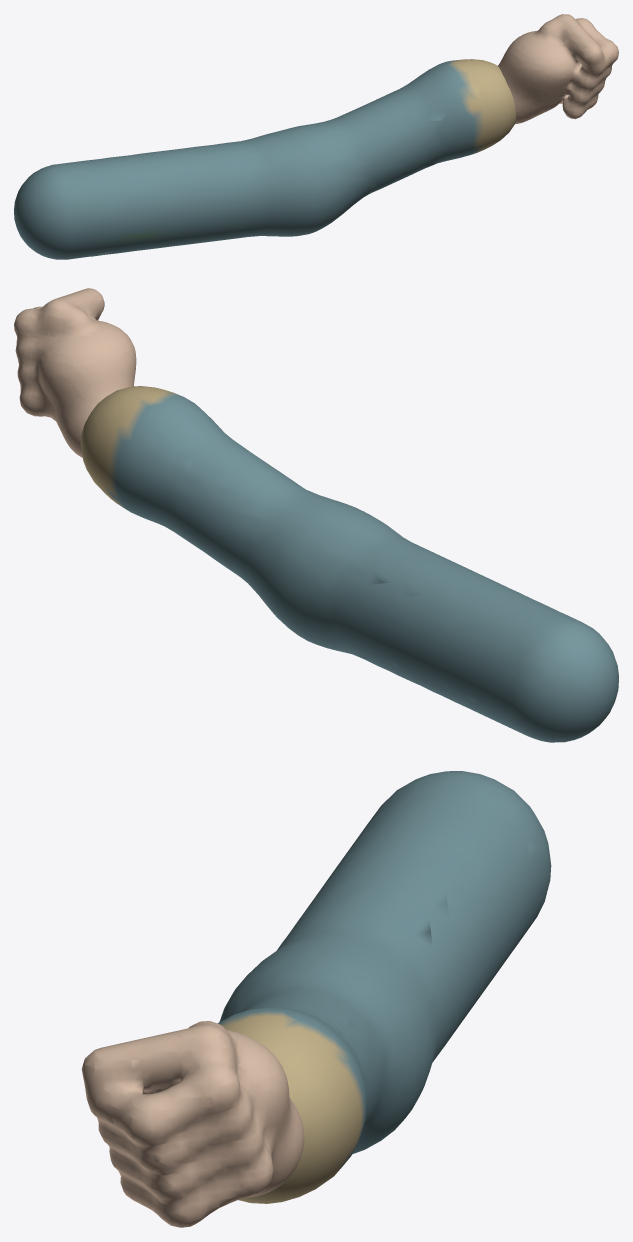
File: FP_Arm_Right.fbx
3 views of the same model, one above another, from view 1: azimuth 30°, elevation 25°; view 2: azimuth 150°, elevation 25°; view 3: azimuth 270°, elevation 25° (orthographic). The views are drawn at different scales.
Visible parts, largest first — view 1: FP_Arm_Right; view 2: FP_Arm_Right; view 3: FP_Arm_Right.
Part boxes in pixels (x1=…): FP_Arm_Right: x1=14, y1=14, x2=618, y2=259; FP_Arm_Right: x1=14, y1=288, x2=618, y2=742; FP_Arm_Right: x1=81, y1=771, x2=551, y2=1227.
Size of the model in its own units: 0.8786 by 0.2878 by 0.3432.
